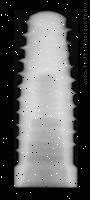Biomet 3i: (14, 10, 78, 188)
